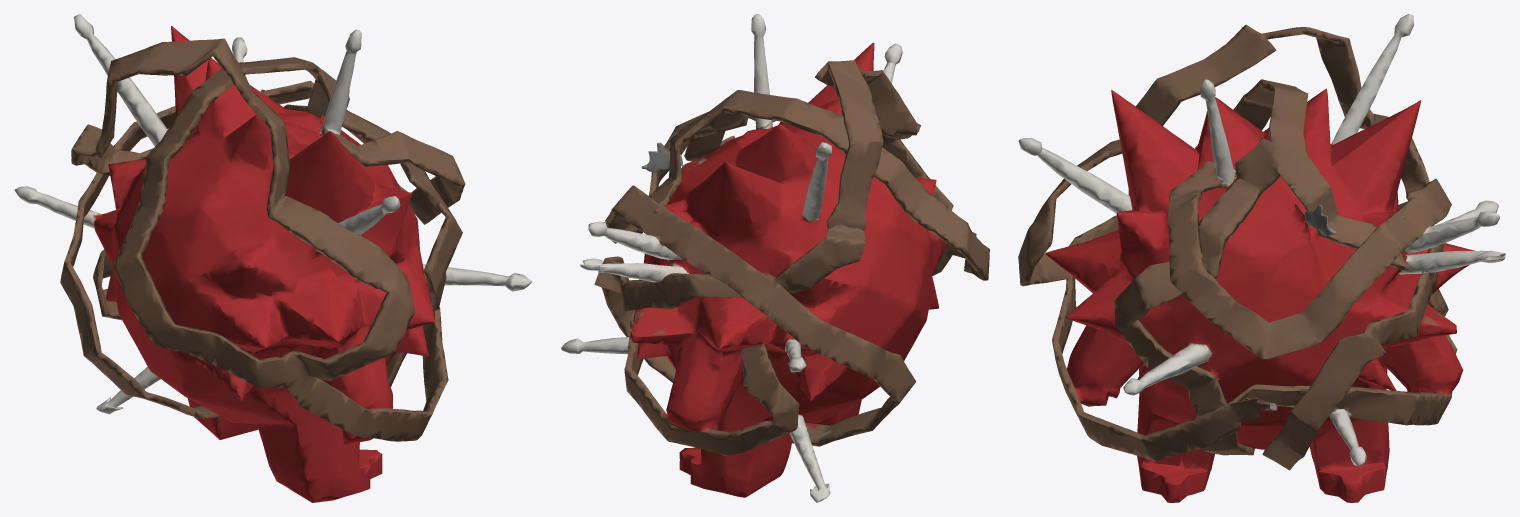
Rendered from rusher.glb.
3 views of the same model, side by side, from view 1: azimuth 30°, elevation 25°; view 2: azimuth 150°, elevation 25°; view 3: azimuth 270°, elevation 25° (orthographic). The views are drawn at different scales.
Visible parts, largest first — view 1: tripo_node_9d9f35c8-6af8-4d63-bd16-c24f52e2f3f4; view 2: tripo_node_9d9f35c8-6af8-4d63-bd16-c24f52e2f3f4; view 3: tripo_node_9d9f35c8-6af8-4d63-bd16-c24f52e2f3f4.
Part boxes in pixels (<box>): tripo_node_9d9f35c8-6af8-4d63-bd16-c24f52e2f3f4: <box>14,14,531,502</box>; tripo_node_9d9f35c8-6af8-4d63-bd16-c24f52e2f3f4: <box>561,14,989,502</box>; tripo_node_9d9f35c8-6af8-4d63-bd16-c24f52e2f3f4: <box>1018,14,1505,502</box>.
Bounding box in the file's own units: 0.2669 × 0.3 × 0.3135.
Materials: 1 (1 with a texture image).
